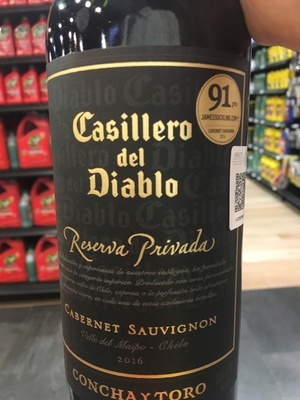casillero del diablo reserva privada cabernet sauvignon: (44, 6, 267, 400)
